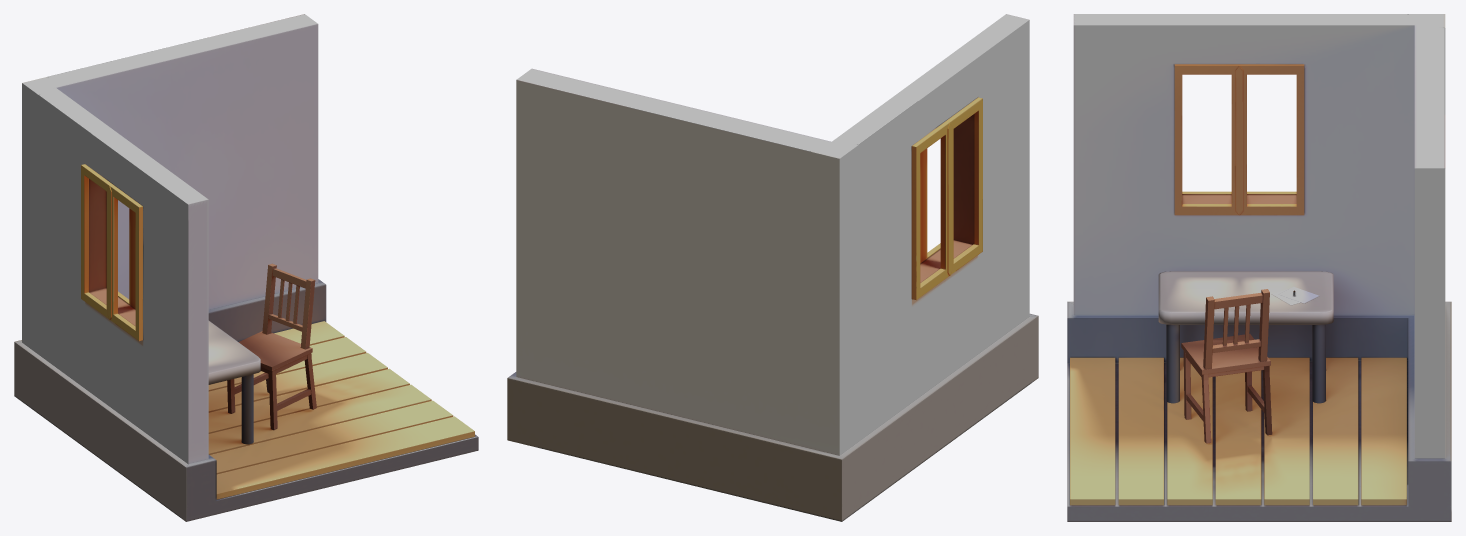
File: Room1.glb
3 renders of one model, left to right at view 1: azimuth 30°, elevation 25°; view 2: azimuth 150°, elevation 25°; view 3: azimuth 270°, elevation 25°, orthographic. The views are drawn at different scales.
Visible parts, largest first — view 1: nibobo; view 2: nibobo; view 3: nibobo.
Part boxes in pixels (left/top/right/bottom): nibobo: left=14, top=14, right=478, bottom=521; nibobo: left=507, top=14, right=1038, bottom=521; nibobo: left=1067, top=14, right=1451, bottom=521.
Bounding box in the file's own units: 2.26 × 2.32 × 2.3.
1 material, 1 textured.
